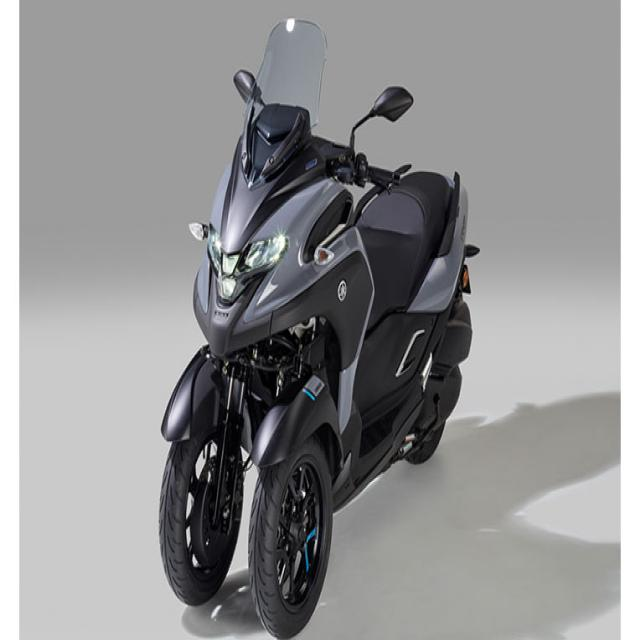Bike: (159, 19, 478, 636)
